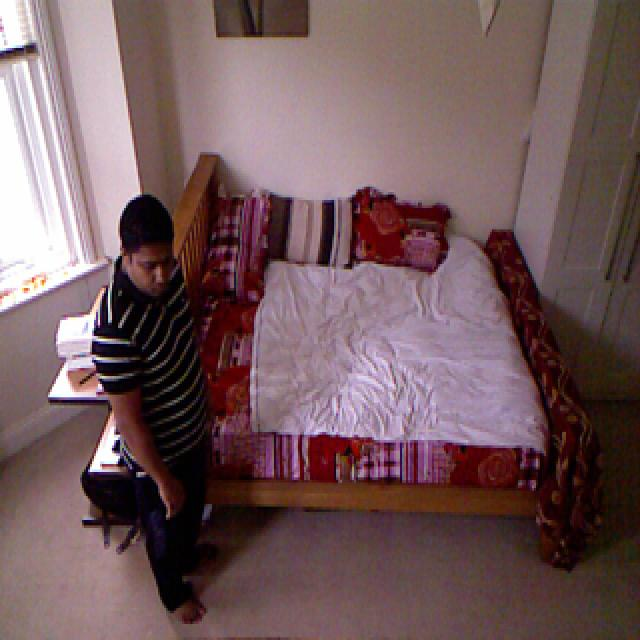standing: (84, 188, 234, 626)
